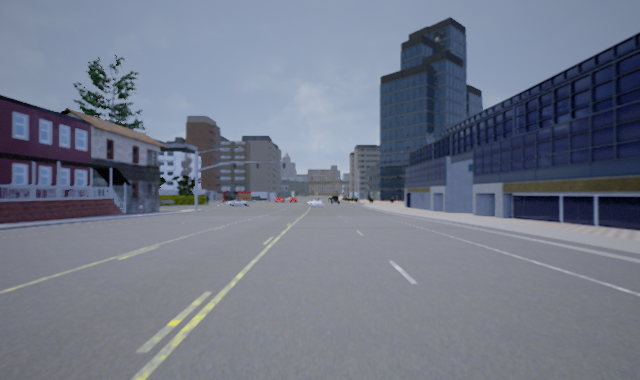vehicle: (227, 198, 250, 208)
